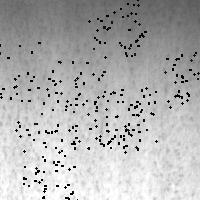pitted_surface: (1, 1, 197, 198), (95, 87, 155, 146), (15, 79, 75, 137), (86, 93, 143, 151), (23, 139, 78, 199), (88, 0, 144, 56), (48, 61, 103, 104), (0, 42, 38, 97), (164, 52, 200, 107)
